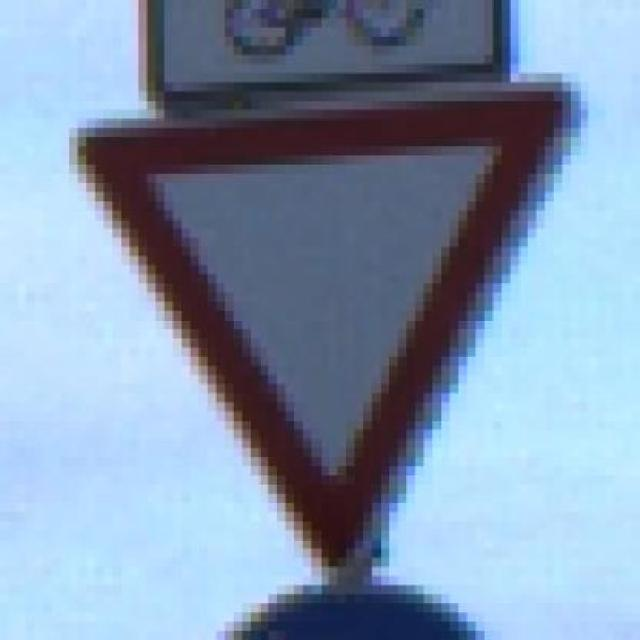Give Way: (36, 70, 606, 592)
